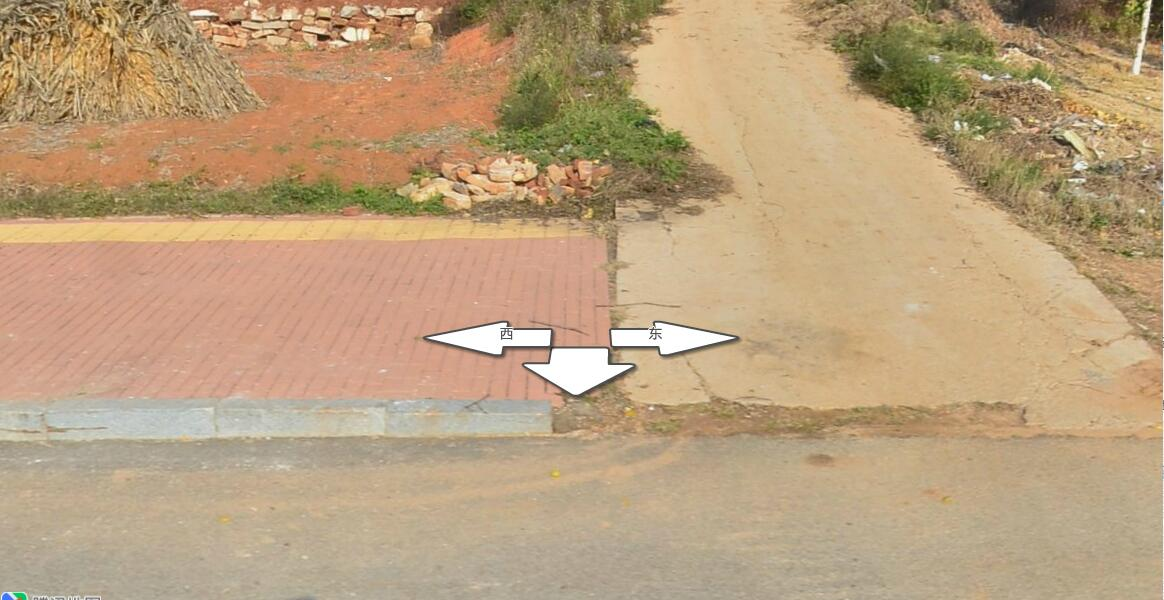side: (46, 398, 217, 439), (215, 398, 386, 438), (387, 399, 553, 436)
